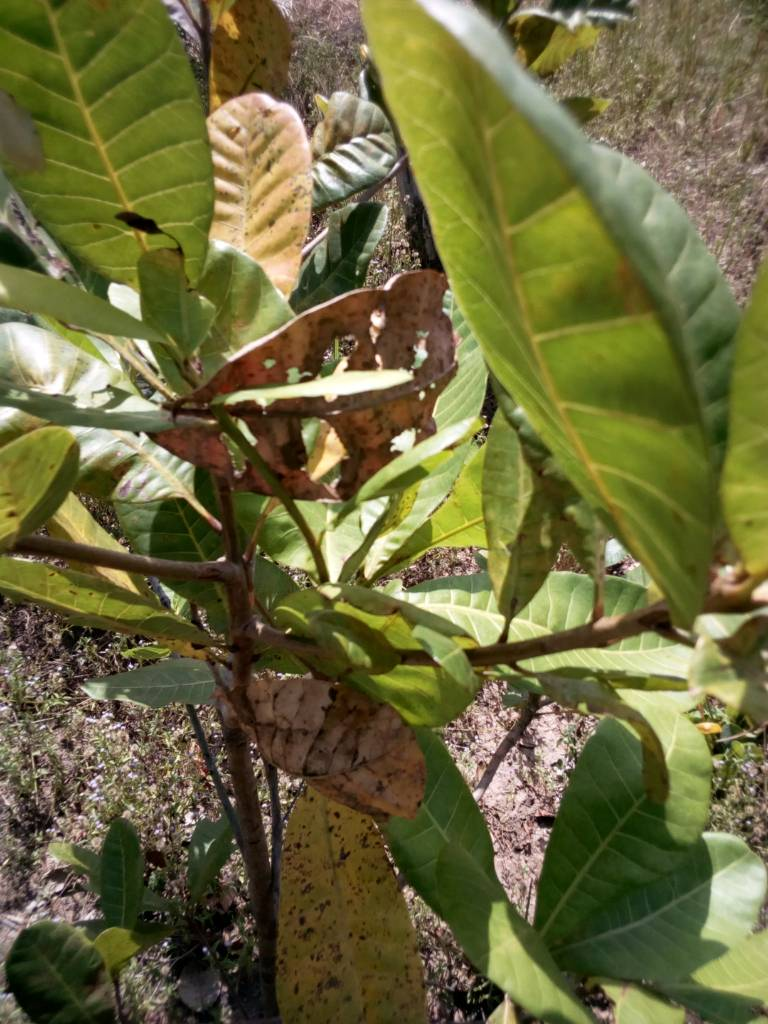Anthracnose: (272, 799, 419, 1024)
